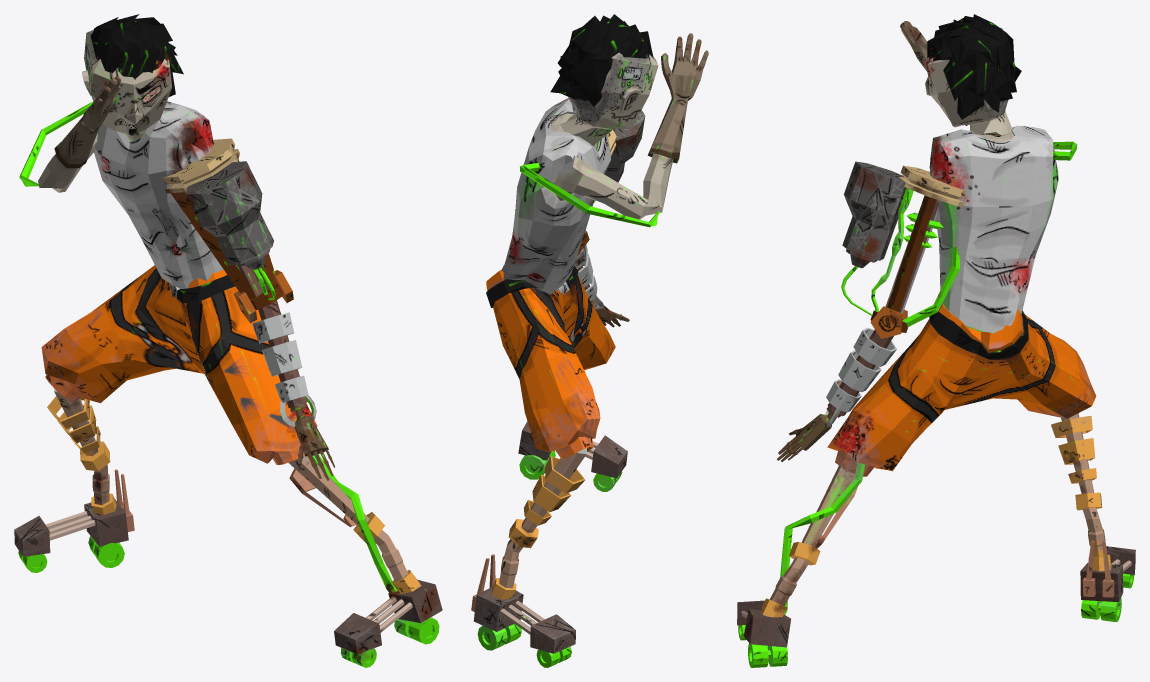
File: CyborgFINALAnimation_000004.obj
3 views of the same model, side by side, from view 1: azimuth 30°, elevation 25°; view 2: azimuth 150°, elevation 25°; view 3: azimuth 270°, elevation 25° (orthographic). The views are drawn at different scales.
Parts seen in each view (by area): view 1: CyborgMesh_Cube.002; view 2: CyborgMesh_Cube.002; view 3: CyborgMesh_Cube.002.
Part boxes in pixels (x1,y1,x2,y2): CyborgMesh_Cube.002: (14, 14, 442, 667); CyborgMesh_Cube.002: (471, 14, 708, 667); CyborgMesh_Cube.002: (737, 14, 1135, 667).
Bounding box in the file's own units: 4.11 × 8.69 × 5.43.
